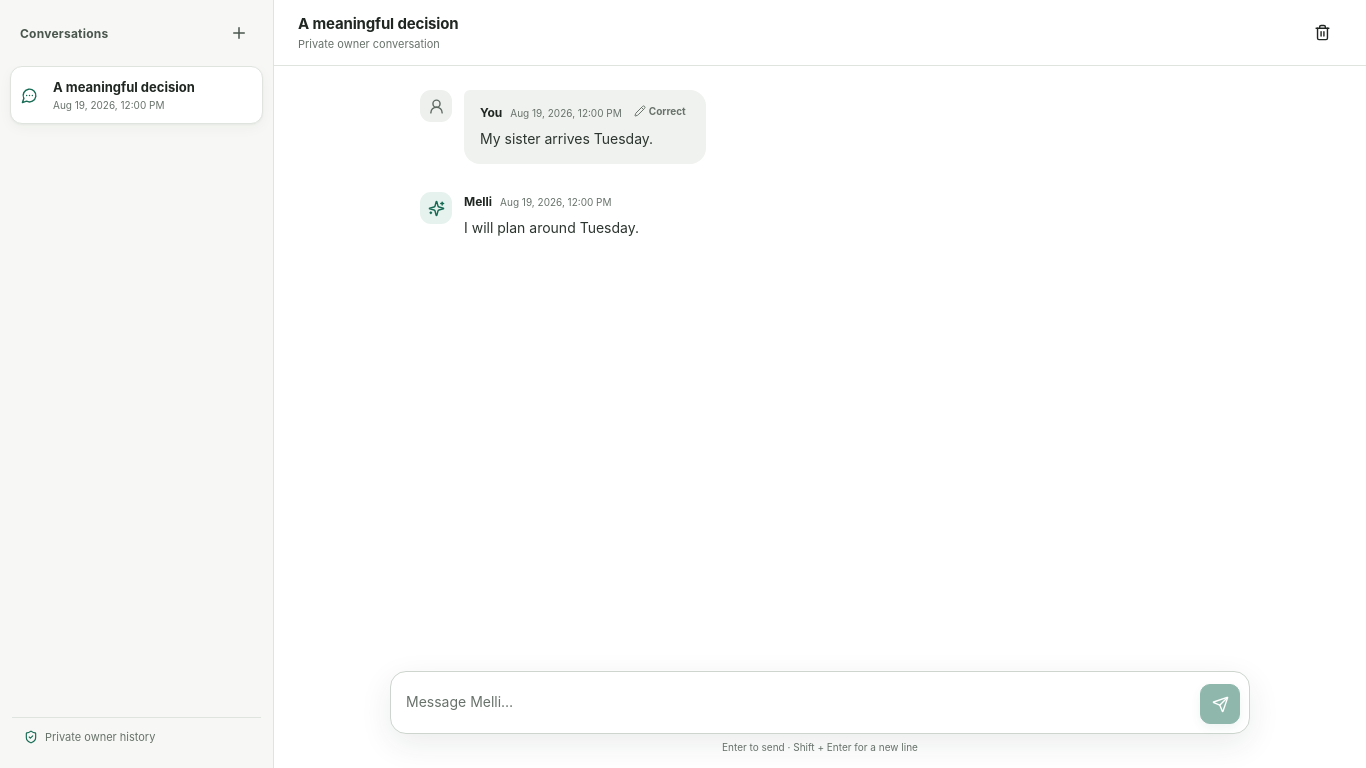
Test: ConversationPage › corrects owner wording and hides the superseded exchange
Expected: the text "My sister arrives Tuesday." is shown, [480,130,653,147]
Click the button with aria-label "Correct message" at (660, 111), box [630,103,690,119]
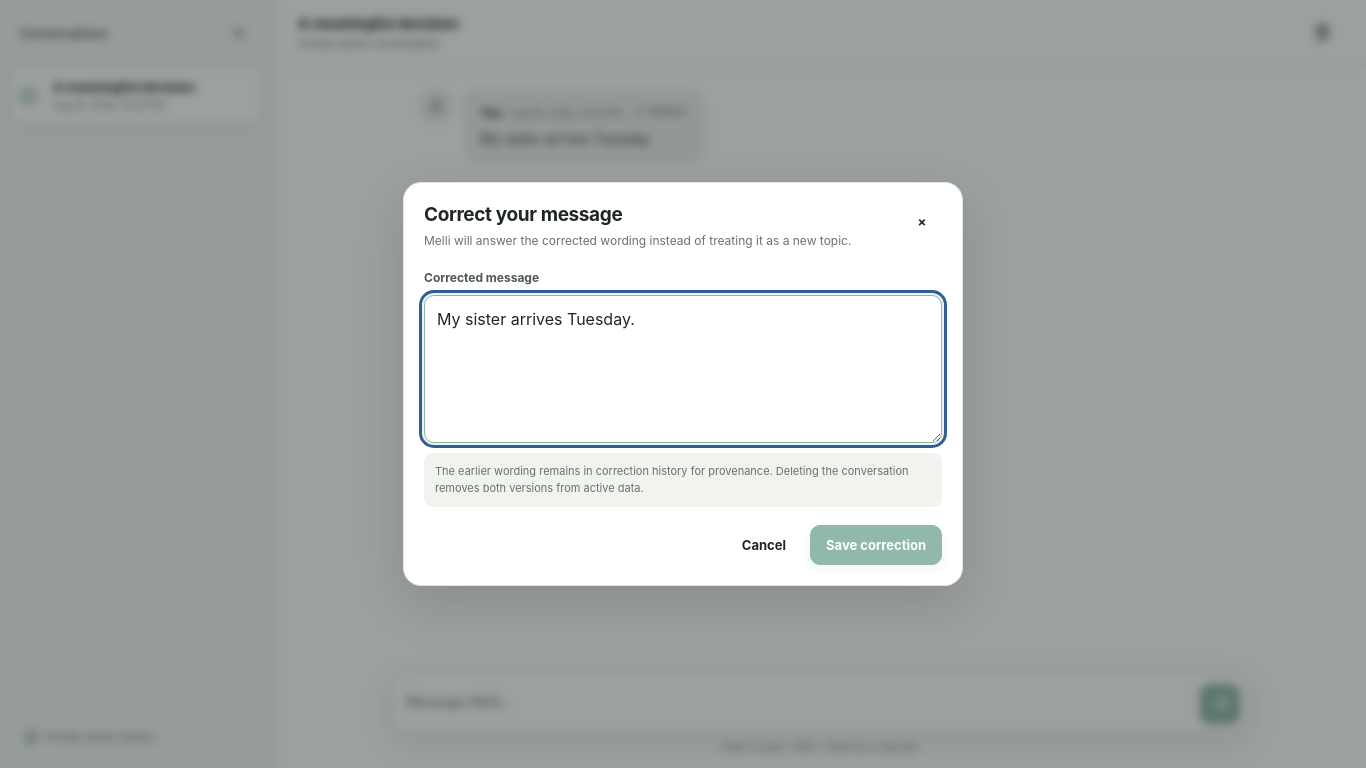
Result: the text box labelled "Corrected message" holds "My sister arrives Tuesday."
Result: the text "remains in correction history" is shown at [435,464,908,495]
Result: the button "Save correction" is disabled at [810,525,942,565]
Replace the text in the text box labelled "Corrected message" with "My sister arrives Thursday." at (683, 369), box [424,295,942,443]
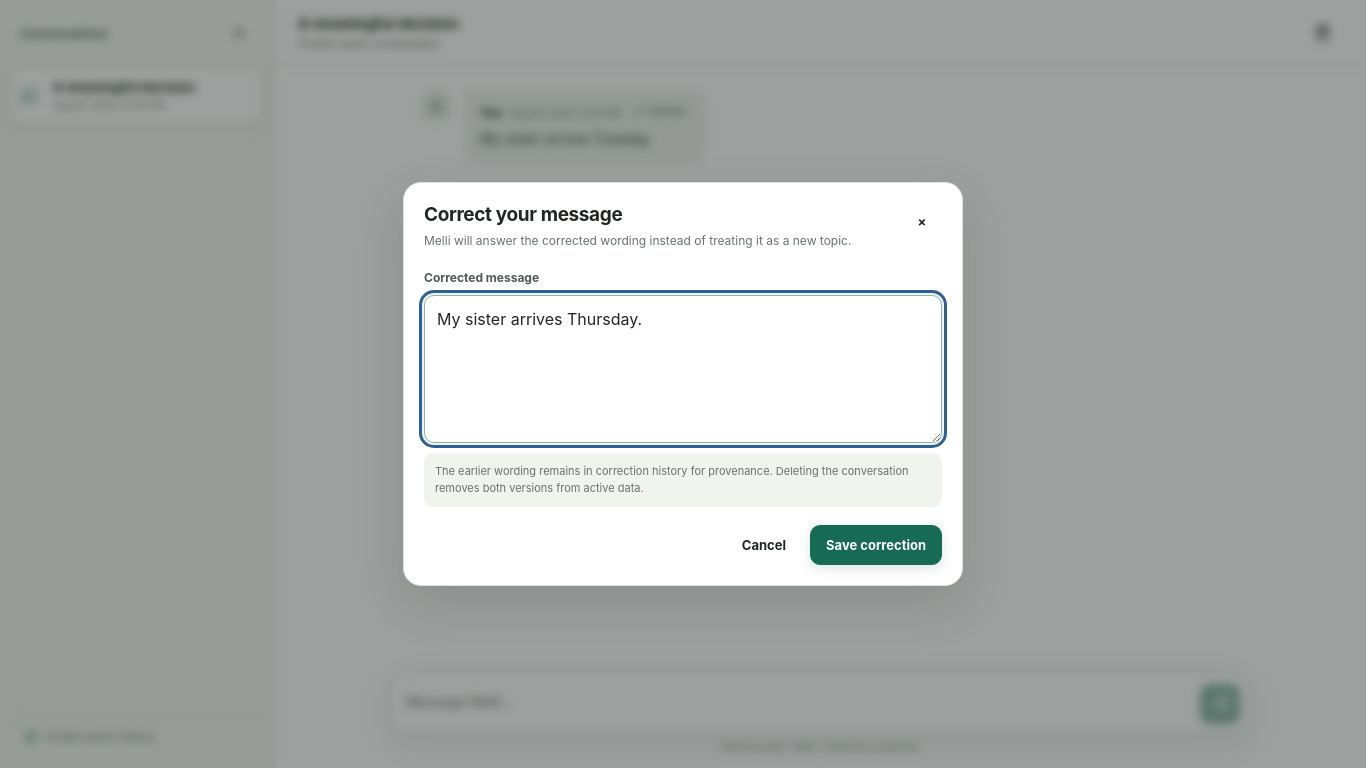
Click the button "Save correction" at (876, 545), box [810,525,942,565]
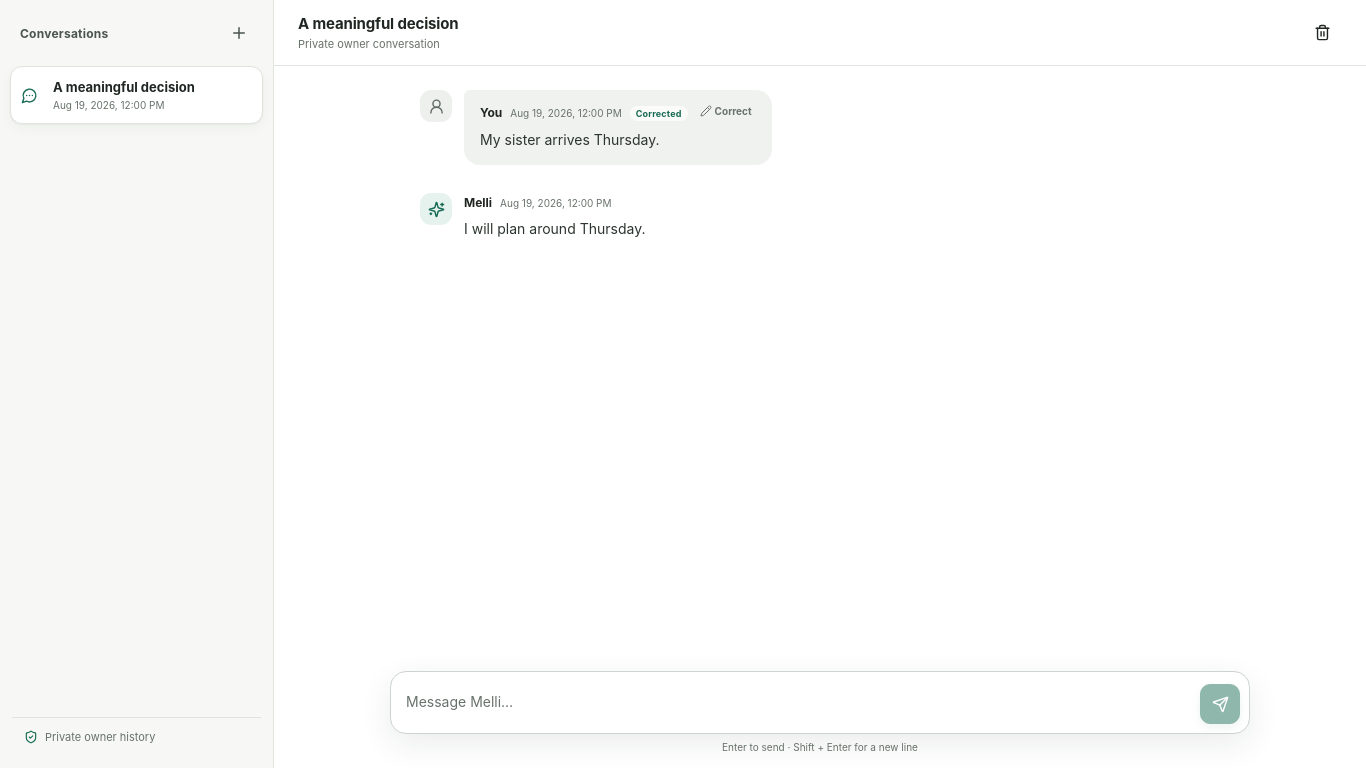
Result: the text "Corrected" is shown at [630,106,688,121]
Result: the text "My sister arrives Thursday." is shown at [480,131,660,148]
Result: the text "I will plan around Thursday." is shown at [464,220,645,237]
